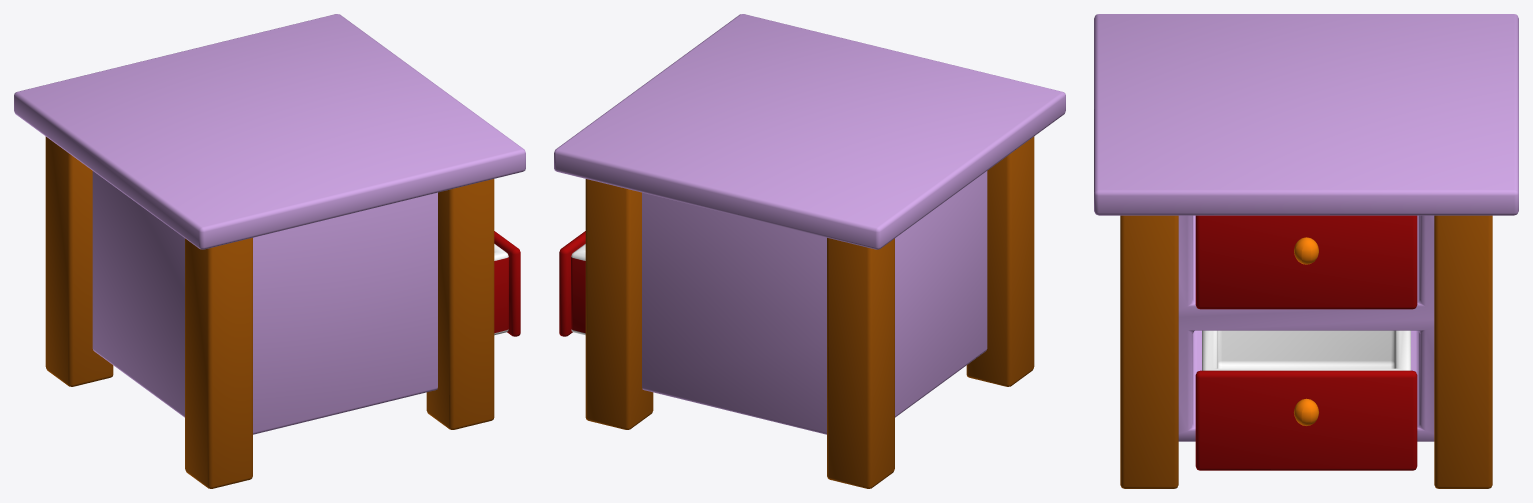
File: Comod.fbx
3 views of the same model, side by side, from view 1: azimuth 30°, elevation 25°; view 2: azimuth 150°, elevation 25°; view 3: azimuth 270°, elevation 25° (orthographic). The views are drawn at different scales.
Visible parts, largest first — view 1: Comod; view 2: Comod; view 3: Comod.
Boxes of the visible parts, x1,y1,x2,y2 form: Comod: [14, 14, 525, 488]; Comod: [554, 14, 1065, 488]; Comod: [1094, 14, 1518, 488].
Size of the model in its own units: 1.76 by 1.49 by 1.2.
